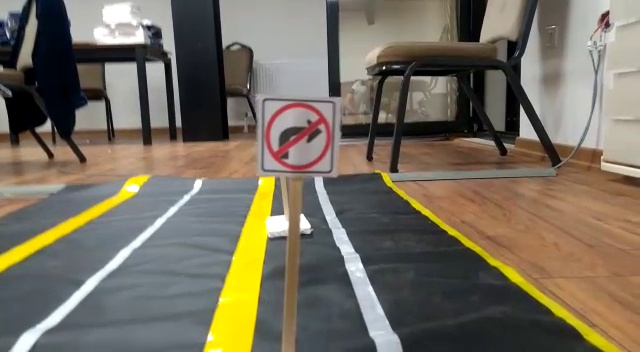saga_donulmez: (262, 98, 336, 173)
